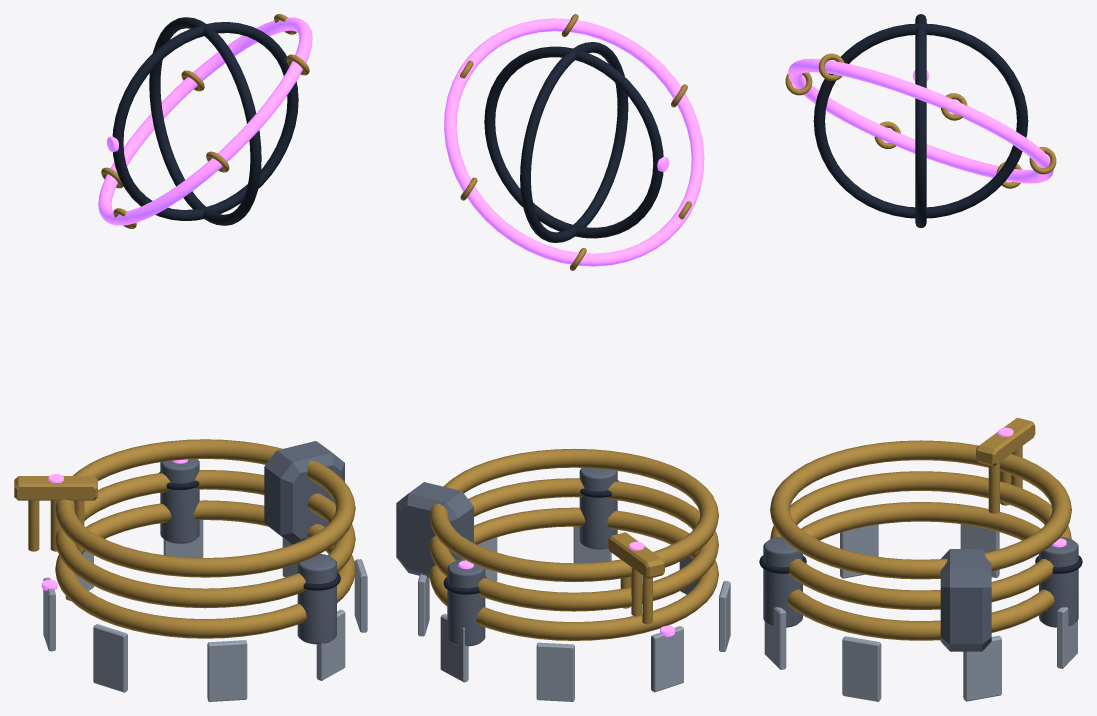
The model's file is tower_singularity_rate_s7.glb.
3 renders of one model, left to right at view 1: azimuth 30°, elevation 25°; view 2: azimuth 150°, elevation 25°; view 3: azimuth 270°, elevation 25°, orthographic. The views are drawn at different scales.
Visible parts, largest first — view 1: singularity_stem_coil2, singularity_stem_coil1, singularity_stem_coil0, singularity_halo_b_ring, singularity_core_cage_b, singularity_stem_junction, singularity_core_cage_c, singularity_stem_cap4.363323129985824, singularity_stem_cap1.9198621771937625, singularity_stem_fin6, singularity_stem_fin7, singularity_manifold_header (+5 smaller); view 2: singularity_stem_coil2, singularity_halo_b_ring, singularity_stem_coil1, singularity_stem_coil0, singularity_core_cage_b, singularity_core_cage_c, singularity_stem_junction, singularity_stem_cap1.9198621771937625, singularity_stem_cap4.363323129985824, singularity_stem_fin1, singularity_stem_fin0, singularity_manifold_header (+4 smaller); view 3: singularity_stem_coil2, singularity_stem_coil1, singularity_stem_coil0, singularity_halo_b_ring, singularity_core_cage_c, singularity_stem_junction, singularity_stem_fin4, singularity_stem_cap4.363323129985824, singularity_core_cage_b, singularity_stem_cap1.9198621771937625, singularity_stem_fin3, singularity_manifold_header (+5 smaller).
Boxes of the visible parts, bbox=[...] form: singularity_stem_coil2: bbox=[55, 439, 355, 577]; singularity_stem_coil1: bbox=[55, 470, 355, 608]; singularity_stem_coil0: bbox=[55, 500, 355, 638]; singularity_halo_b_ring: bbox=[98, 17, 312, 225]; singularity_core_cage_b: bbox=[112, 22, 298, 220]; singularity_stem_junction: bbox=[264, 441, 344, 544]; singularity_core_cage_c: bbox=[149, 17, 261, 225]; singularity_stem_cap4.363323129985824: bbox=[297, 554, 336, 644]; singularity_stem_cap1.9198621771937625: bbox=[160, 459, 199, 543]; singularity_stem_fin6: bbox=[207, 640, 247, 701]; singularity_stem_fin7: bbox=[93, 624, 127, 692]; singularity_manifold_header: bbox=[14, 476, 97, 500]; singularity_stem_coil2: bbox=[429, 448, 718, 581]; singularity_halo_b_ring: bbox=[444, 18, 704, 266]; singularity_stem_coil1: bbox=[429, 478, 718, 611]; singularity_stem_coil0: bbox=[429, 507, 718, 640]; singularity_core_cage_b: bbox=[484, 46, 663, 238]; singularity_core_cage_c: bbox=[520, 42, 628, 242]; singularity_stem_junction: bbox=[396, 482, 473, 578]; singularity_stem_cap1.9198621771937625: bbox=[447, 559, 485, 646]; singularity_stem_cap4.363323129985824: bbox=[579, 468, 617, 549]; singularity_stem_fin1: bbox=[536, 642, 574, 701]; singularity_stem_fin0: bbox=[651, 626, 683, 692]; singularity_manifold_header: bbox=[608, 532, 664, 578]; singularity_stem_coil2: bbox=[770, 440, 1071, 579]; singularity_stem_coil1: bbox=[770, 471, 1071, 609]; singularity_stem_coil0: bbox=[787, 502, 1054, 640]; singularity_halo_b_ring: bbox=[788, 58, 1053, 183]; singularity_core_cage_c: bbox=[813, 23, 1028, 218]; singularity_stem_junction: bbox=[940, 549, 991, 651]; singularity_stem_fin4: bbox=[842, 636, 881, 701]; singularity_stem_cap4.363323129985824: bbox=[763, 537, 802, 627]; singularity_core_cage_b: bbox=[915, 14, 926, 227]; singularity_stem_cap1.9198621771937625: bbox=[1039, 537, 1078, 627]; singularity_stem_fin3: bbox=[963, 635, 1001, 701]; singularity_manifold_header: bbox=[976, 417, 1035, 466].
Bounding box in the file's own units: 1.22 × 2.39 × 1.15.
